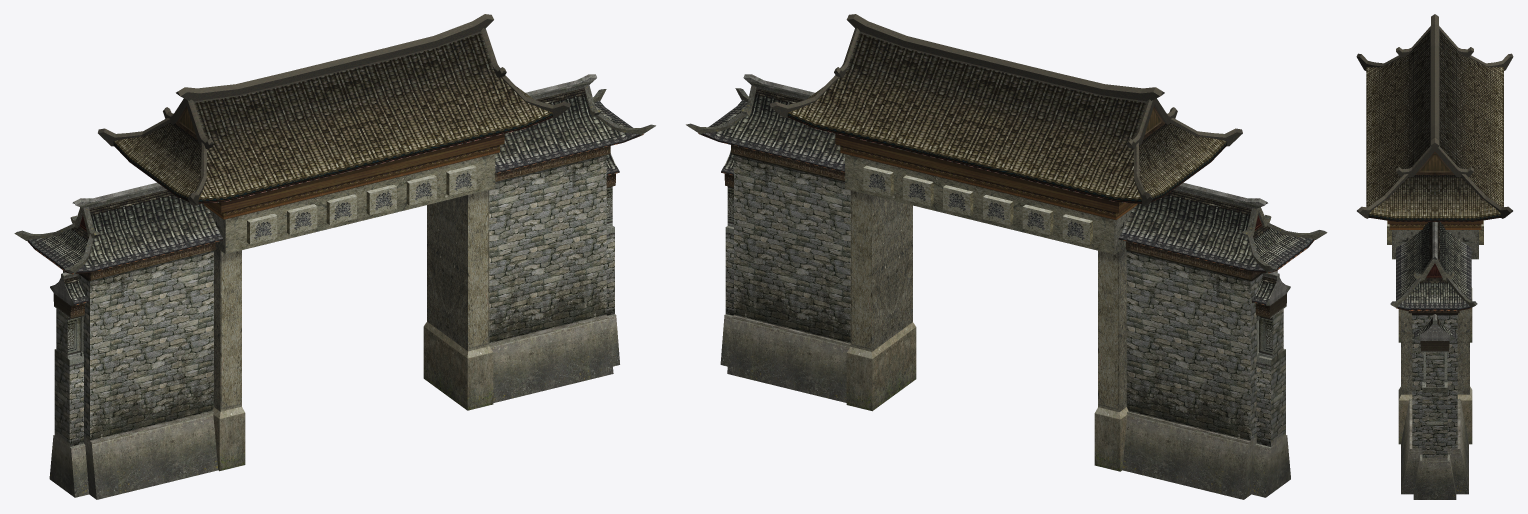
Rendered from b1-middledam-01.fbx.
3 renders of one model, left to right at view 1: azimuth 30°, elevation 25°; view 2: azimuth 150°, elevation 25°; view 3: azimuth 270°, elevation 25°, orthographic. The views are drawn at different scales.
Visible parts, largest first — view 1: b1-middledam-02, b1-middledam-01; view 2: b1-middledam-02, b1-middledam-01; view 3: b1-middledam-01, b1-middledam-02.
Boxes of the visible parts, x1,y1,x2,y2 form: b1-middledam-02: [14, 74, 655, 499]; b1-middledam-01: [98, 14, 571, 471]; b1-middledam-02: [686, 74, 1327, 499]; b1-middledam-01: [768, 14, 1242, 471]; b1-middledam-01: [1356, 14, 1513, 444]; b1-middledam-02: [1390, 222, 1477, 499].
Bounding box in the file's own units: 22.82 × 13.67 × 6.24.
